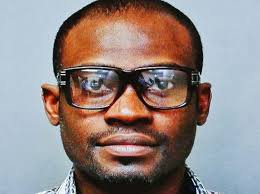noMask: (34, 1, 219, 190)
